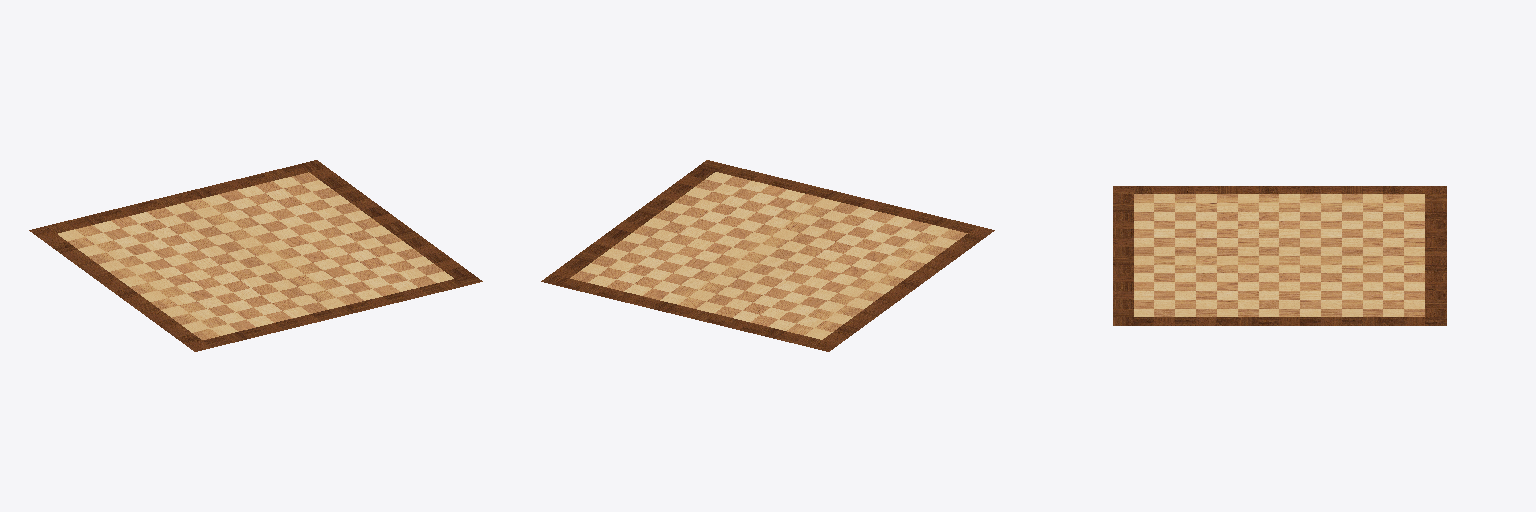
The picture shows the model from 3 angles: view 1: azimuth 30°, elevation 25°; view 2: azimuth 150°, elevation 25°; view 3: azimuth 270°, elevation 25°; orthographic projection.
Size of the model in its own units: 50 by 0 by 50.
1 materials, 1 textured.